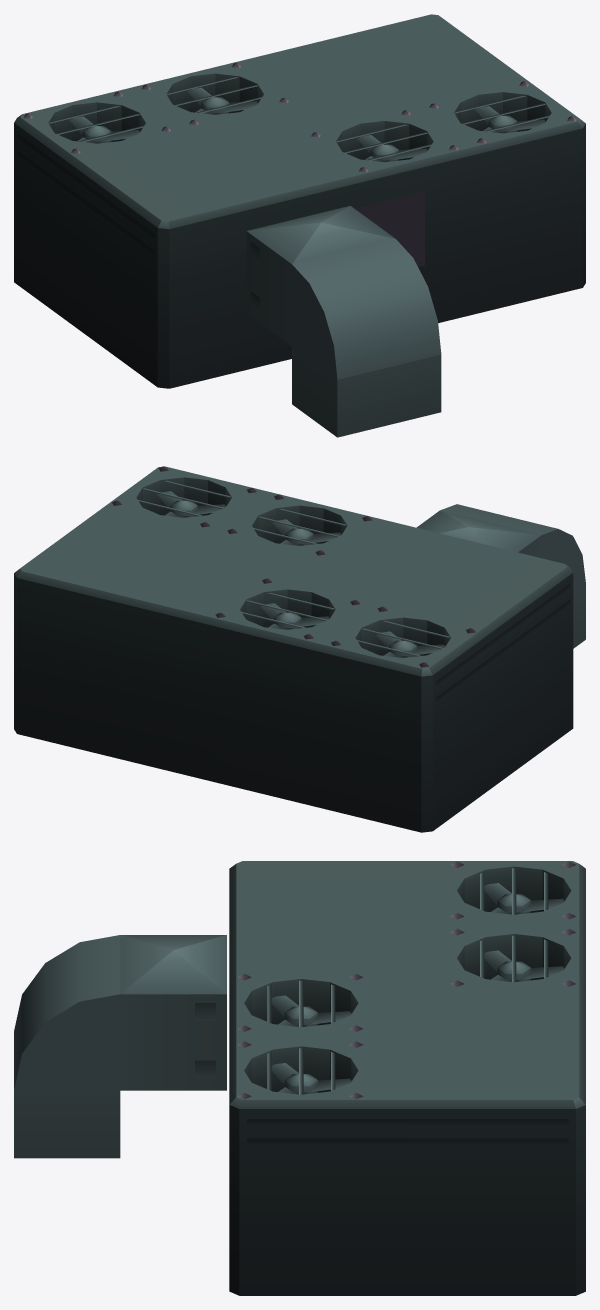
The model's file is Industrial_Ventilation_1A.fbx.
3 renders of one model, top to bottom at view 1: azimuth 30°, elevation 25°; view 2: azimuth 150°, elevation 25°; view 3: azimuth 270°, elevation 25°, orthographic. The views are drawn at different scales.
Parts seen in each view (by area): view 1: Industrial_Ventilation_1A, Industrial_Fan_4, Industrial_Fan_1, Industrial_Fan_2, Industrial_Fan_3; view 2: Industrial_Ventilation_1A, Industrial_Fan_2, Industrial_Fan_4, Industrial_Fan_3, Industrial_Fan_1; view 3: Industrial_Ventilation_1A, Industrial_Fan_3, Industrial_Fan_2, Industrial_Fan_1, Industrial_Fan_4.
Boxes of the visible parts, bbox=[...] form: Industrial_Ventilation_1A: bbox=[14, 14, 585, 437]; Industrial_Fan_4: bbox=[475, 106, 545, 133]; Industrial_Fan_1: bbox=[69, 116, 139, 143]; Industrial_Fan_2: bbox=[187, 87, 257, 114]; Industrial_Fan_3: bbox=[357, 135, 427, 162]; Industrial_Ventilation_1A: bbox=[14, 466, 585, 832]; Industrial_Fan_2: bbox=[260, 603, 329, 629]; Industrial_Fan_4: bbox=[157, 491, 226, 517]; Industrial_Fan_3: bbox=[272, 519, 341, 545]; Industrial_Fan_1: bbox=[376, 631, 444, 657]; Industrial_Ventilation_1A: bbox=[14, 861, 585, 1295]; Industrial_Fan_3: bbox=[271, 995, 351, 1026]; Industrial_Fan_2: bbox=[484, 950, 564, 981]; Industrial_Fan_1: bbox=[484, 883, 564, 914]; Industrial_Fan_4: bbox=[271, 1063, 351, 1094].
Size of the model in its own units: 544 by 204 by 538.
